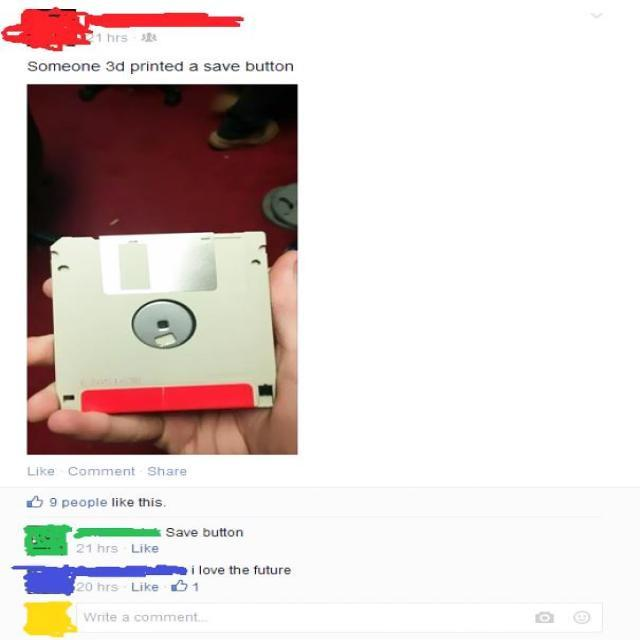5: (49, 496, 57, 506)
A: (188, 62, 198, 72), (212, 62, 222, 72), (122, 613, 131, 622), (166, 468, 174, 476), (176, 529, 184, 537)
B: (246, 60, 256, 72), (204, 526, 212, 537)
C: (68, 466, 79, 476), (134, 614, 142, 622)
D: (115, 60, 125, 71), (175, 60, 184, 72)
E: (92, 62, 102, 72), (164, 62, 174, 72), (231, 62, 241, 72), (62, 63, 71, 72), (152, 544, 160, 554), (240, 567, 250, 575), (284, 566, 292, 576), (150, 584, 160, 592), (47, 468, 55, 477), (99, 499, 108, 507), (114, 468, 122, 476), (70, 499, 78, 507), (126, 499, 134, 507), (190, 530, 198, 538), (217, 567, 225, 575), (110, 614, 118, 622), (177, 614, 185, 622), (180, 468, 187, 476)
F: (253, 565, 258, 574)
H: (106, 32, 115, 42), (157, 466, 165, 476), (143, 496, 150, 506), (98, 581, 104, 591), (234, 566, 241, 574), (98, 544, 104, 552)
I: (146, 60, 150, 72), (139, 544, 143, 553), (115, 496, 118, 506), (36, 466, 38, 476), (152, 497, 154, 507), (192, 564, 194, 574), (140, 582, 142, 592), (102, 612, 104, 622)
K: (144, 543, 152, 553), (119, 497, 127, 506), (144, 582, 152, 591), (40, 467, 47, 476)
L: (27, 466, 35, 476), (132, 544, 140, 554), (132, 582, 140, 592), (199, 564, 202, 576), (96, 497, 99, 506), (112, 498, 115, 507)
M: (48, 62, 61, 72), (88, 468, 100, 476), (102, 468, 114, 476), (150, 614, 162, 622), (164, 614, 176, 622)
N: (81, 62, 91, 72), (284, 62, 294, 72), (150, 64, 160, 72), (123, 468, 131, 476), (235, 530, 243, 538), (186, 614, 193, 622)
O: (38, 62, 48, 72), (72, 62, 82, 72), (274, 63, 284, 72), (78, 468, 87, 476), (78, 499, 87, 507), (203, 566, 211, 574), (142, 614, 150, 622), (228, 529, 234, 537)
P: (131, 62, 140, 74), (61, 499, 70, 509), (88, 499, 96, 509)
R: (140, 62, 147, 72), (116, 34, 122, 42), (105, 544, 111, 552), (278, 566, 284, 574), (96, 614, 102, 622), (105, 584, 111, 591), (174, 468, 178, 476)
S: (27, 60, 39, 72), (166, 526, 176, 537), (202, 62, 212, 72), (147, 466, 157, 476), (154, 498, 163, 508), (121, 34, 129, 42), (112, 545, 118, 553), (112, 584, 118, 592)
T: (264, 60, 270, 72), (269, 60, 275, 72), (160, 61, 166, 72), (104, 612, 110, 622), (130, 467, 136, 476), (138, 498, 144, 507), (265, 566, 271, 574), (194, 612, 198, 622), (223, 528, 227, 536), (229, 566, 233, 574), (220, 528, 223, 536)
U: (255, 62, 264, 72), (210, 529, 218, 537), (258, 567, 266, 575), (270, 567, 278, 575)
V: (222, 62, 231, 72), (183, 530, 191, 538), (210, 567, 218, 575)
W: (83, 612, 97, 622)
